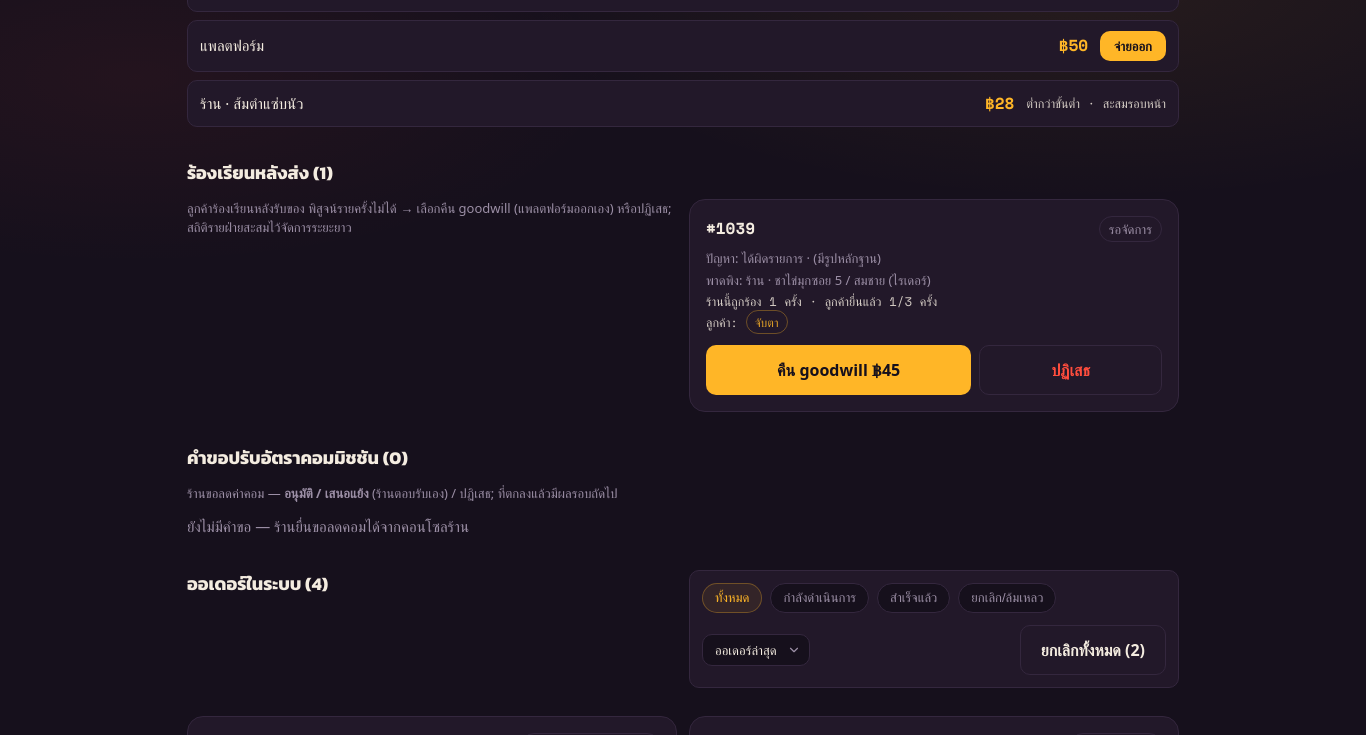
Admin — หลายออเดอร์ + suspend + force-cancel › dispute: แสดงคำร้องค้าง + คืน goodwill → ปิดเคส (แพลตฟอร์มแบก)
(page scrolled)
expect the heading "ร้องเรียนหลังส่ง (1)" is shown: met, box [187, 159, 333, 186]
expect the text "ปัญหา: ได้ผิดรายการ · (มีรูปหลักฐาน)" is shown: met, box [706, 249, 881, 267]
What coordinates should you click on to do the following:
click the button with aria-label "คืน goodwill #1039"
I would click on:
 (839, 370)
Its box is [706, 345, 971, 395].
(page scrolled)
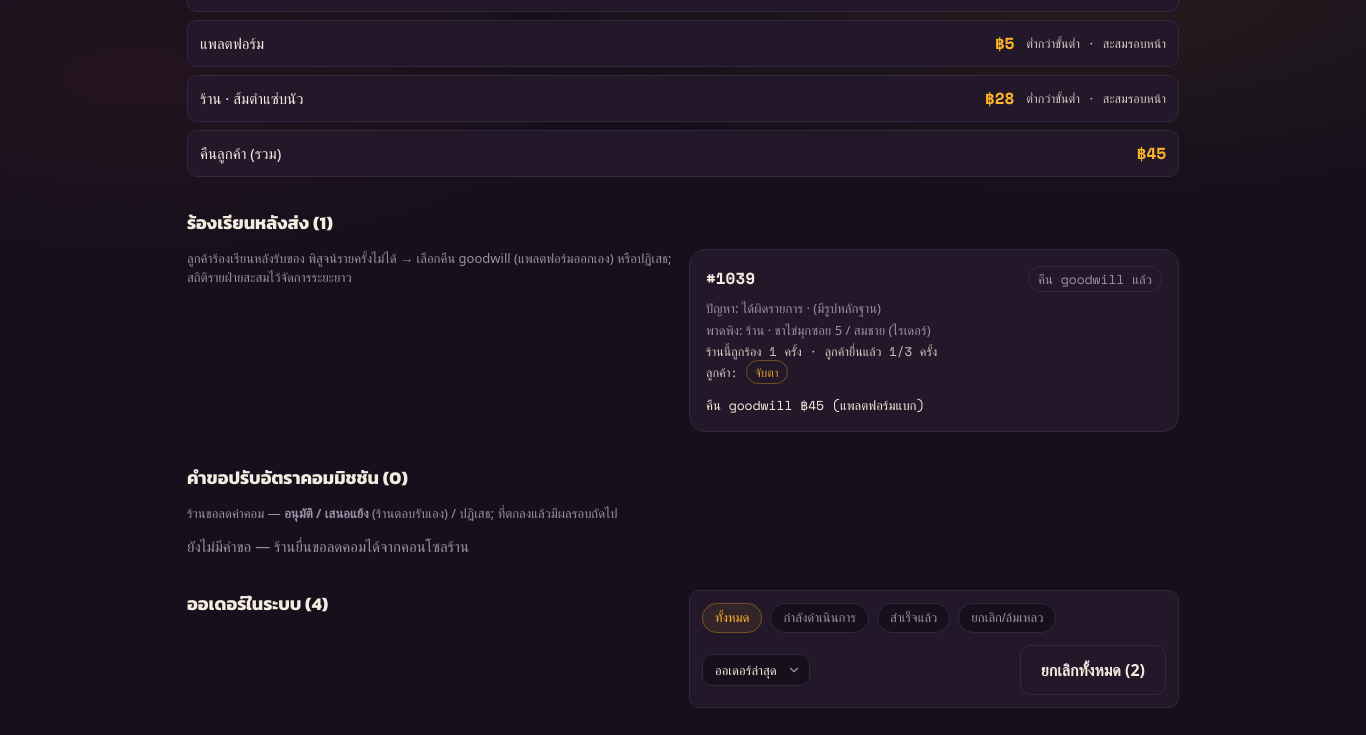
expect the text "คืน goodwill ฿45 (แพลตฟอร์มแบก)" is shown: met, box [706, 395, 924, 415]
